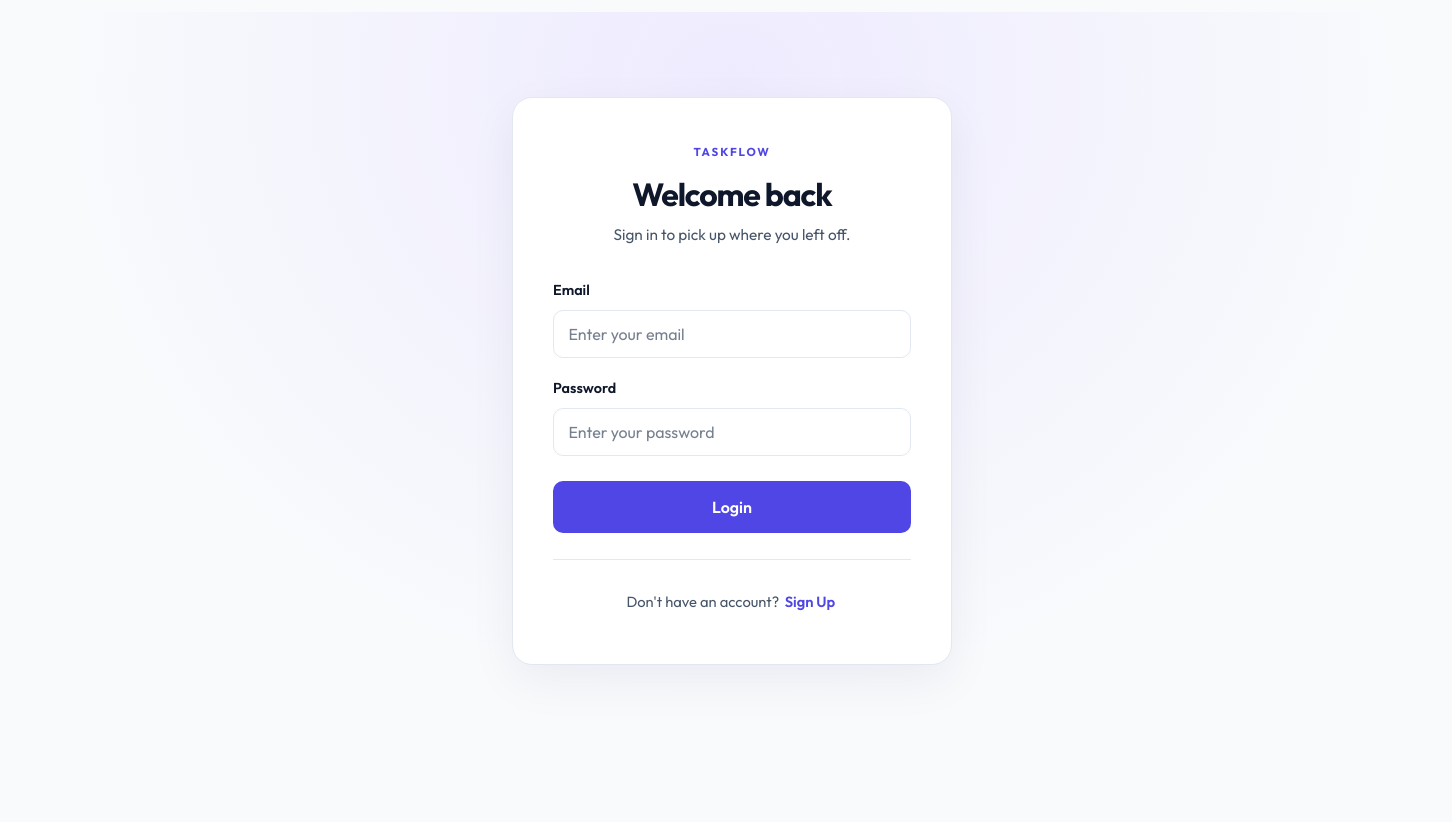
login redirects without an alert and keeps the success notification across routes
Step 1. Type "test@example.com" into the field labelled "Email" → (732, 334), box [553, 310, 911, 358]
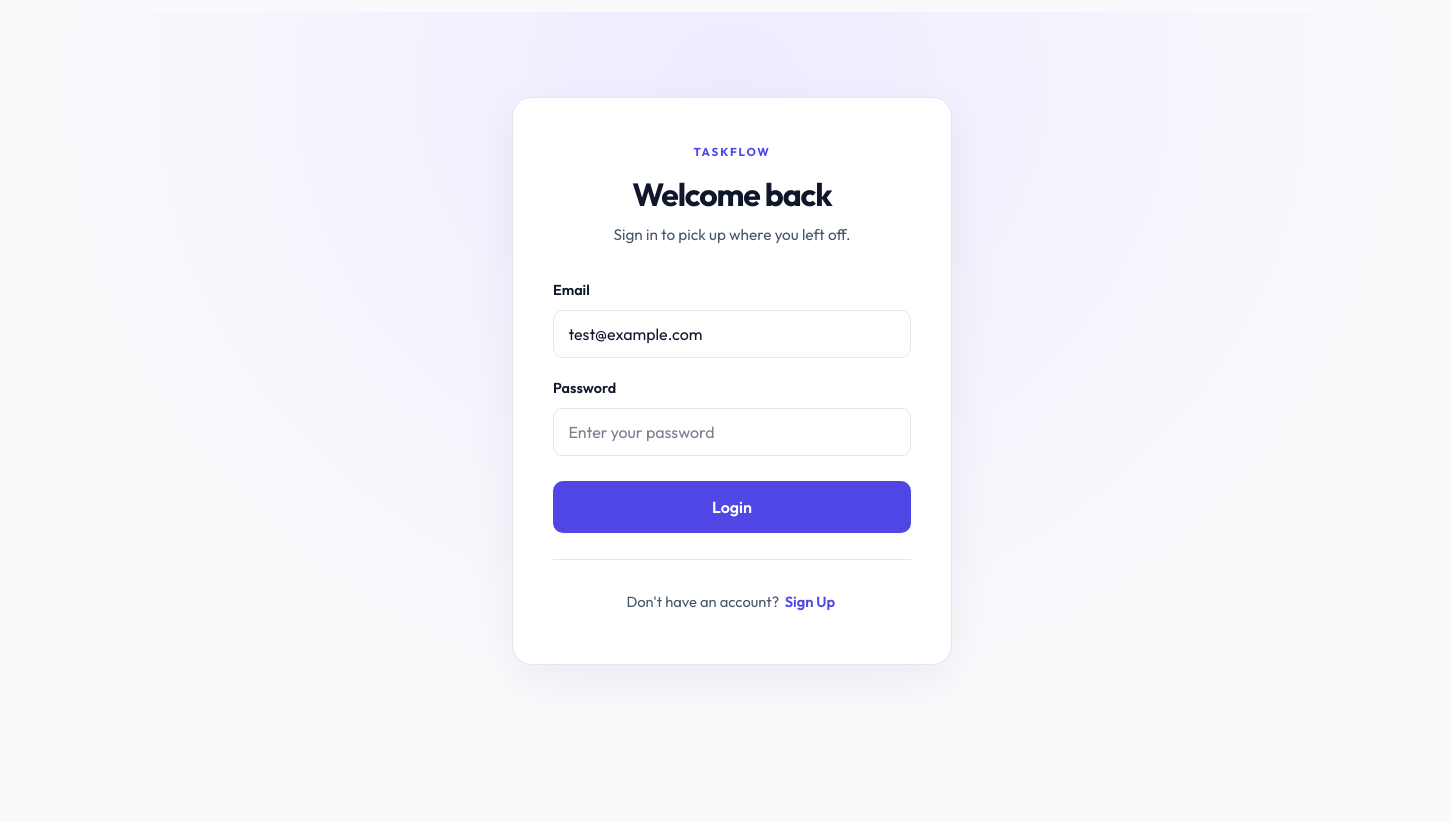
Step 2. Type "test-password" into the password field labelled "Password" → (732, 432), box [553, 408, 911, 456]
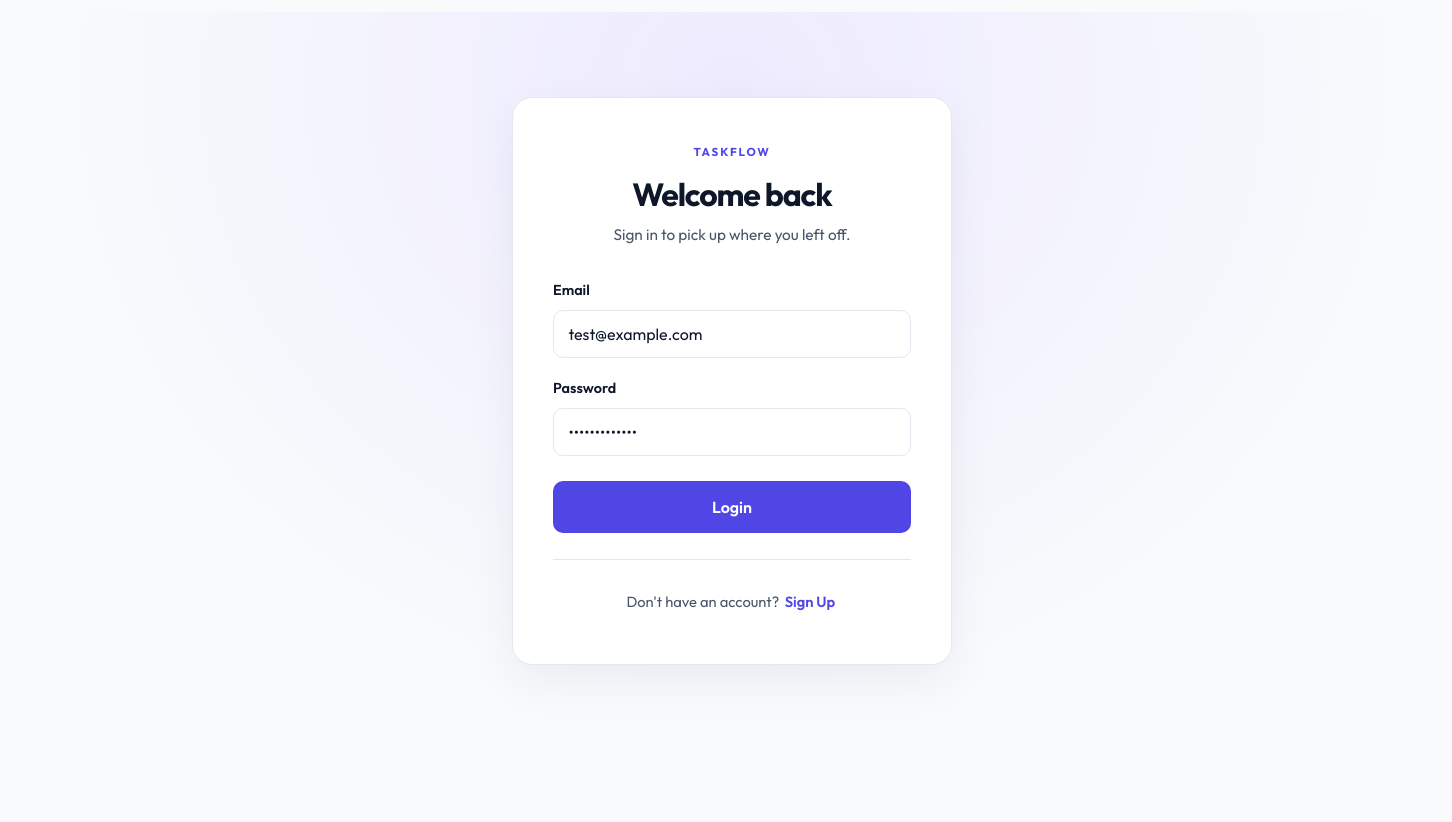
Step 3. Click the button "Login" → (732, 507), box [553, 481, 911, 533]
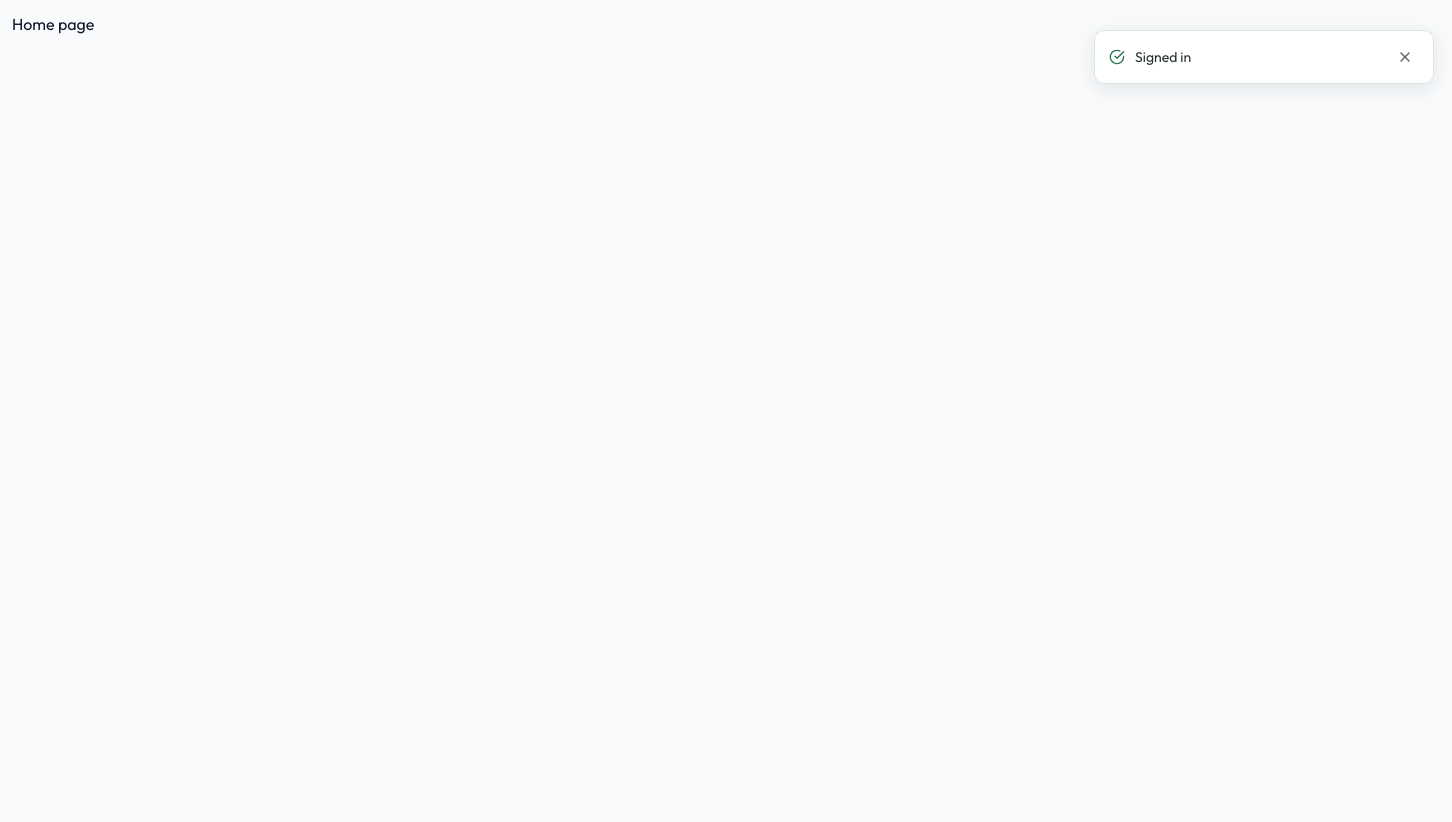
Expected: the text "Home page" is shown, [12, 14, 94, 34]
Expected: the message reads "Signed in", [1135, 48, 1191, 66]
